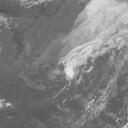cyclone: (60, 53, 83, 84)
